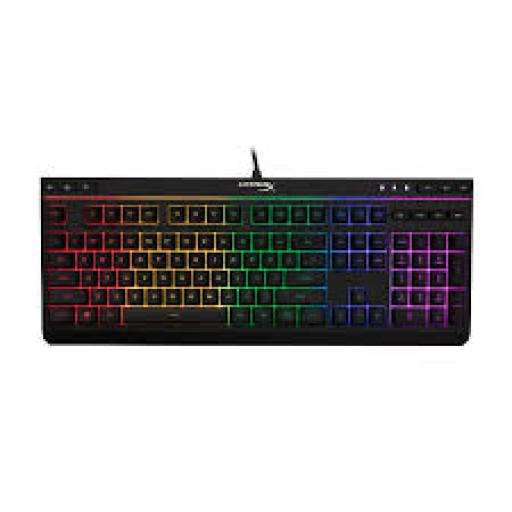keyboard: (41, 177, 471, 344)
